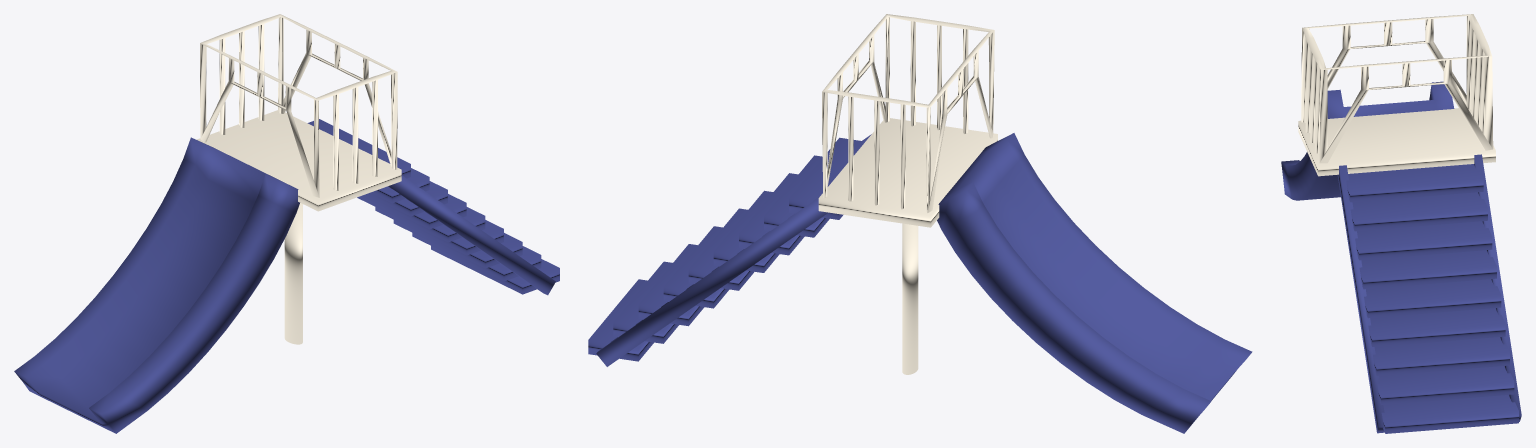
File: 069_滑り台.glb
The picture shows the model from 3 angles, left to right: view 1: azimuth 30°, elevation 25°; view 2: azimuth 150°, elevation 25°; view 3: azimuth 270°, elevation 25°; orthographic projection. The views are drawn at different scales.
Parts seen in each view (by area): view 1: 立方体115_1, 立方体115; view 2: 立方体115_1, 立方体115; view 3: 立方体115_1, 立方体115.
Part boxes in pixels (x1,y1,x2,y2): 立方体115_1: (14, 119, 559, 433); 立方体115: (196, 14, 401, 344); 立方体115_1: (588, 133, 1252, 433); 立方体115: (818, 14, 997, 374); 立方体115_1: (1281, 81, 1521, 433); 立方体115: (1298, 14, 1495, 176).
Bounding box in the file's own units: 5.47 × 2.83 × 2.21.
